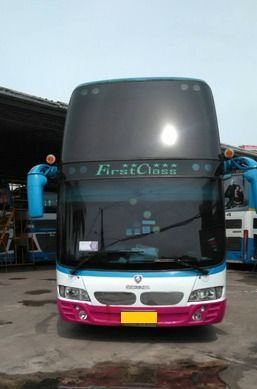bus: (57, 75, 228, 330)
